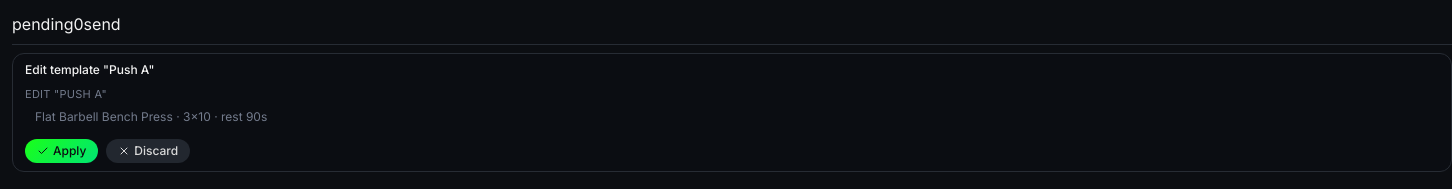
Scenario: a template edited between the proposal and Apply › still applies a wholesale edit over a reloaded copy with the same content
Earlier steps of the test are not shown.
Click the button "Apply". click: click(62, 150)
box: [25,138,98,162]
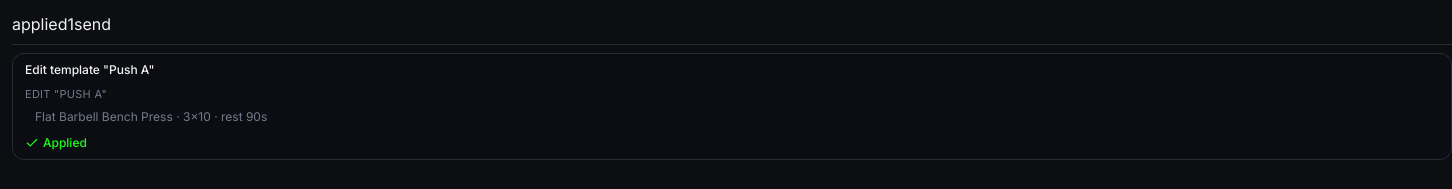
Check: the text with test id "statuses" reads "applied", box [12,14,68,34]
